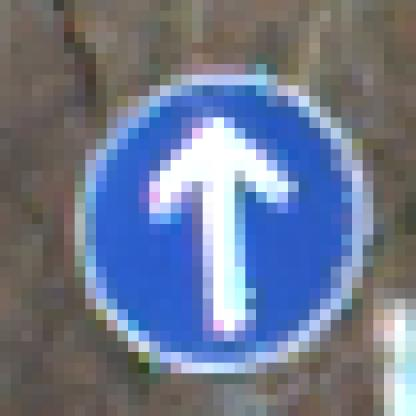AheadOnly: (54, 65, 353, 364)
